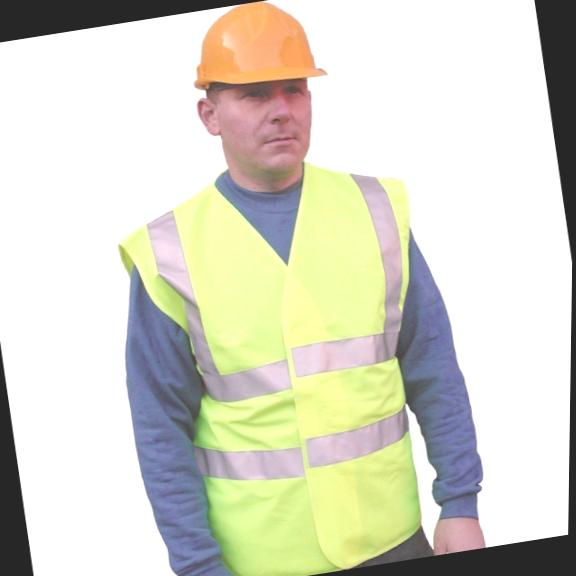safety_vest: (98, 145, 464, 576)
